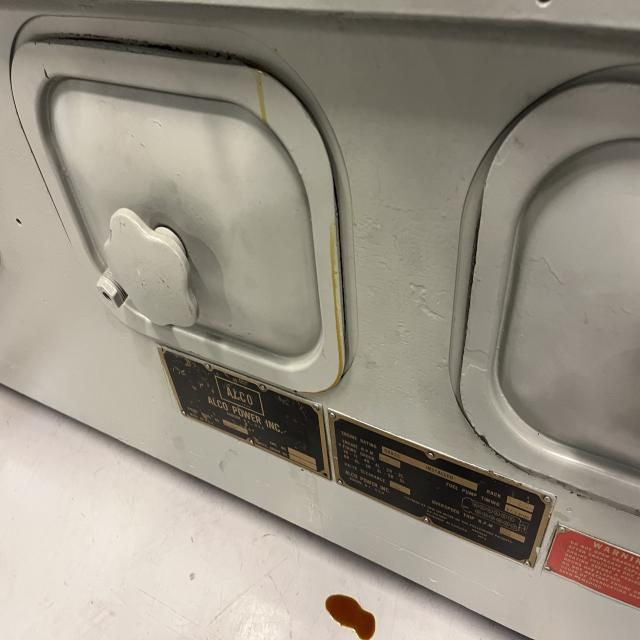Oil Leak: (246, 55, 392, 393), (319, 585, 383, 640)
